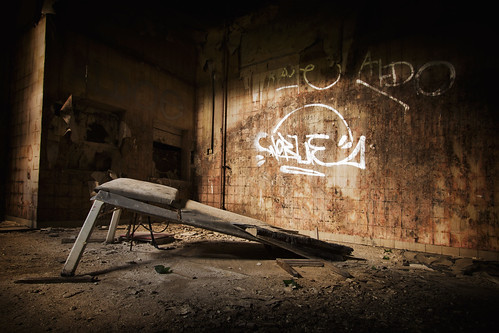graffiti: (236, 57, 483, 183)
trash: (46, 182, 369, 283)
wall: (205, 5, 475, 238), (48, 11, 192, 222)
